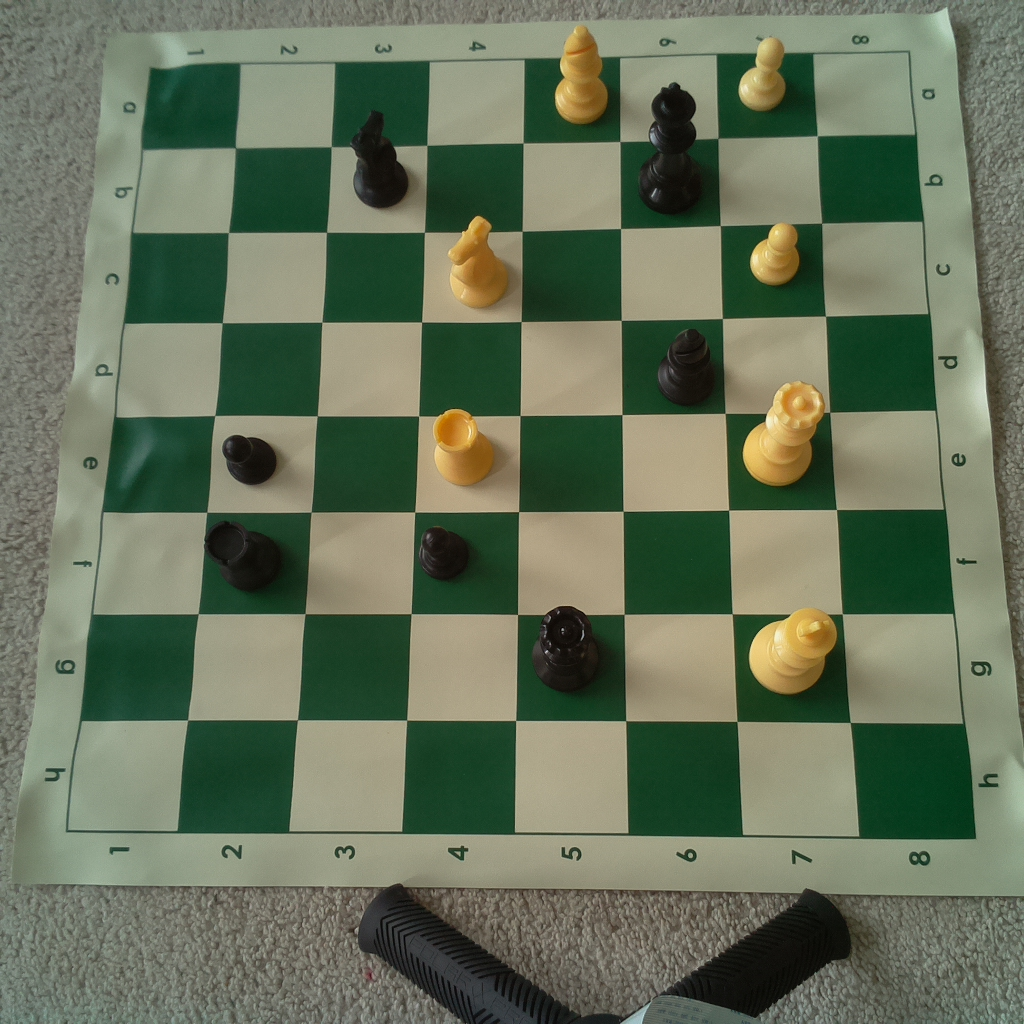black_bishop: (654, 323, 719, 409)
black_king: (641, 79, 705, 214)
black_knight: (340, 106, 411, 213)
black_pawn: (418, 523, 475, 580), (220, 431, 281, 484)
black_queen: (528, 602, 608, 701)
black_rook: (198, 513, 284, 596)
file_a: (141, 51, 919, 151)
file_b: (131, 136, 925, 235)
file_c: (121, 221, 929, 325)
file_d: (115, 315, 937, 417)
file_e: (103, 412, 947, 512)
file_f: (90, 510, 954, 613)
file_g: (80, 614, 967, 722)
file_h: (63, 721, 979, 838)
outline: (62, 53, 977, 836)
rank_1: (64, 62, 238, 831)
rank_2: (177, 62, 333, 834)
rank_3: (289, 61, 432, 835)
rank_4: (403, 58, 528, 834)
rank_5: (514, 58, 631, 835)
rank_6: (619, 57, 742, 836)
rank_7: (716, 53, 863, 841)
rank_8: (808, 53, 979, 839)
white_bishop: (551, 22, 608, 125)
white_king: (742, 601, 841, 704)
white_knight: (438, 210, 512, 312)
white_pawn: (731, 32, 790, 113), (749, 218, 805, 287)
white_queen: (742, 374, 828, 484)
white_rook: (427, 404, 497, 486)
